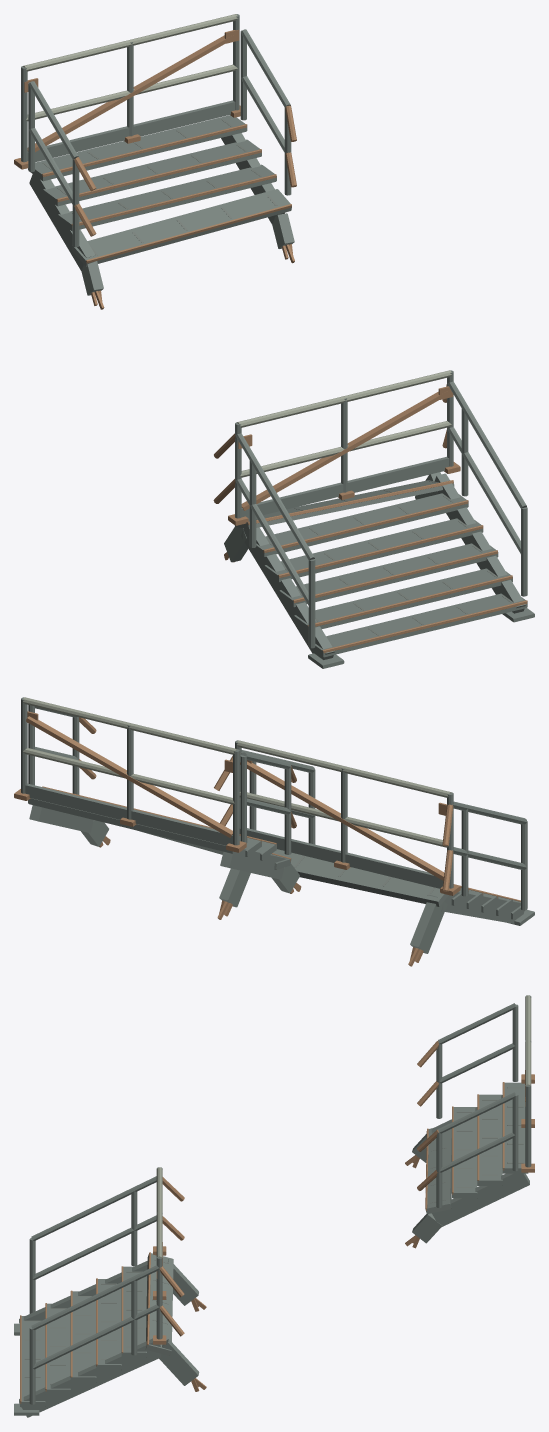
File: BrokenStair.fbx
The picture shows the model from 3 angles, top to bottom: view 1: azimuth 30°, elevation 25°; view 2: azimuth 150°, elevation 25°; view 3: azimuth 270°, elevation 25°; orthographic projection. The views are drawn at different scales.
Visible parts, largest first — view 1: Treads__Steel, SideGuard__Steel, TreadNosing__Rust, Stringers__Steel, UpperClosure__Steel, LowerClosure__Steel, LowerClosure__WornSteel, UpperClosure__WornSteel, LowerClosure__Rust, UpperClosure__Rust, BentStringers__Steel, BrokenGuard__Rust (+1 smaller); view 2: SideGuard__Steel, Treads__Steel, UpperClosure__Steel, LowerClosure__Steel, Stringers__Steel, UpperClosure__WornSteel, LowerClosure__WornSteel, BentStringers__Steel, UpperClosure__Rust, LowerClosure__Rust, BrokenGuard__Rust, TreadNosing__Rust (+1 smaller); view 3: Treads__Steel, SideGuard__Steel, Stringers__Steel, BentStringers__Steel, TreadNosing__Rust, BrokenGuard__Rust, TreadGrip__ConcreteDark, LowerClosure__WornSteel, UpperClosure__WornSteel, UpperClosure__Steel, LowerClosure__Steel.
Part boxes in pixels (x1,y1,x2,y2): Treads__Steel: (28, 115, 527, 657); SideGuard__Steel: (28, 29, 527, 648); TreadNosing__Rust: (42, 124, 527, 653); Stringers__Steel: (29, 133, 525, 659); UpperClosure__Steel: (21, 14, 239, 162); LowerClosure__Steel: (235, 370, 453, 518); LowerClosure__WornSteel: (237, 370, 451, 477); UpperClosure__WornSteel: (23, 14, 237, 121); LowerClosure__Rust: (228, 386, 460, 525); UpperClosure__Rust: (14, 30, 240, 169); BentStringers__Steel: (81, 213, 441, 562); BrokenGuard__Rust: (74, 105, 447, 503); SideGuard__Steel: (28, 705, 527, 910); Treads__Steel: (28, 798, 525, 919); UpperClosure__Steel: (21, 697, 239, 845); LowerClosure__Steel: (235, 740, 453, 888); Stringers__Steel: (29, 805, 524, 923); UpperClosure__WornSteel: (23, 697, 237, 804); LowerClosure__WornSteel: (237, 740, 451, 847); BentStringers__Steel: (81, 820, 447, 953); UpperClosure__Rust: (14, 711, 246, 852); LowerClosure__Rust: (240, 760, 460, 895); BrokenGuard__Rust: (79, 717, 453, 891); TreadNosing__Rust: (42, 786, 520, 901); Treads__Steel: (20, 1082, 528, 1407); SideGuard__Steel: (29, 1003, 518, 1404); Stringers__Steel: (19, 1095, 529, 1417); BentStringers__Steel: (159, 1134, 442, 1385); TreadNosing__Rust: (20, 1082, 504, 1403); BrokenGuard__Rust: (159, 1041, 438, 1336); TreadGrip__ConcreteDark: (24, 1087, 523, 1396); LowerClosure__WornSteel: (156, 1167, 162, 1257); UpperClosure__WornSteel: (525, 995, 531, 1085); UpperClosure__Steel: (525, 995, 531, 1167); LowerClosure__Steel: (156, 1167, 162, 1339).
Size of what is drawn, in the model's own units: 2.75 by 4.38 by 6.15.
